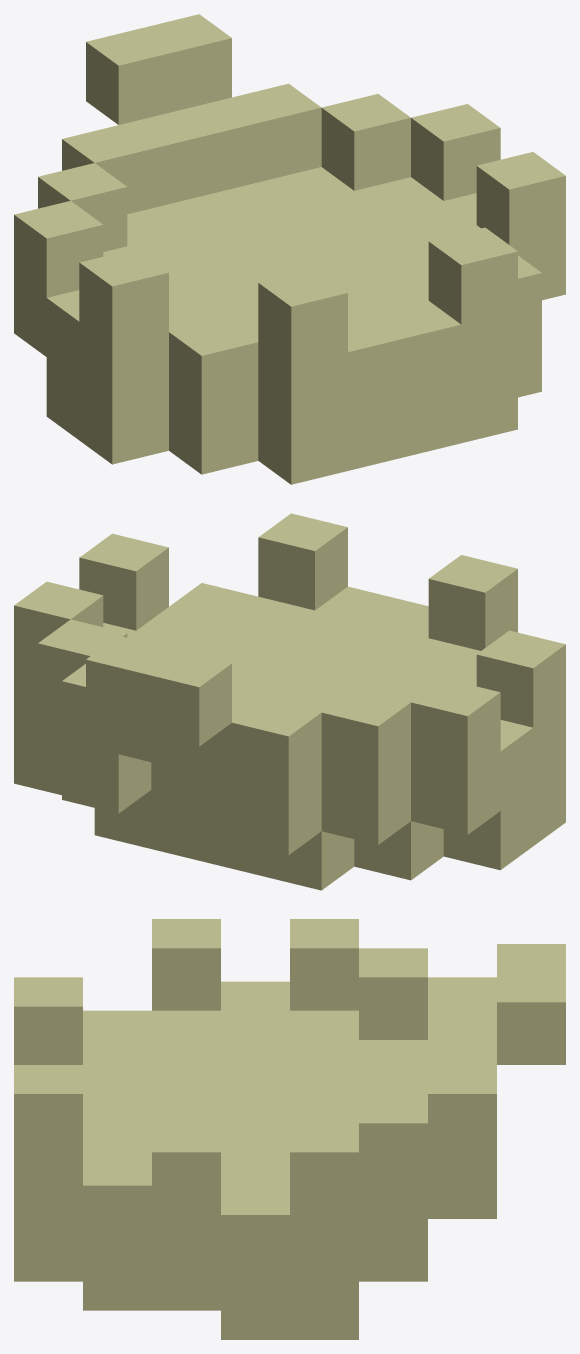
The model's file is ossos-0.obj.
3 views of the same model, one above another, from view 1: azimuth 30°, elevation 25°; view 2: azimuth 150°, elevation 25°; view 3: azimuth 270°, elevation 25° (orthographic). The views are drawn at different scales.
Size of the model in its own units: 0.8 by 0.4 by 0.8.
1 material, 1 textured.
